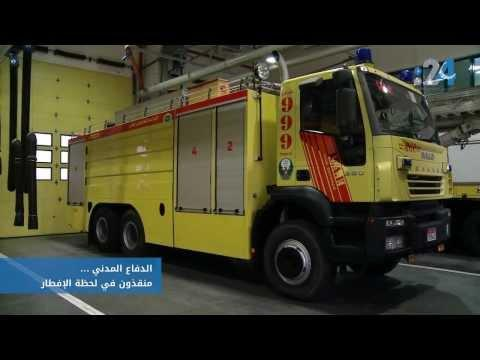firetruck_off: (67, 49, 453, 298)
